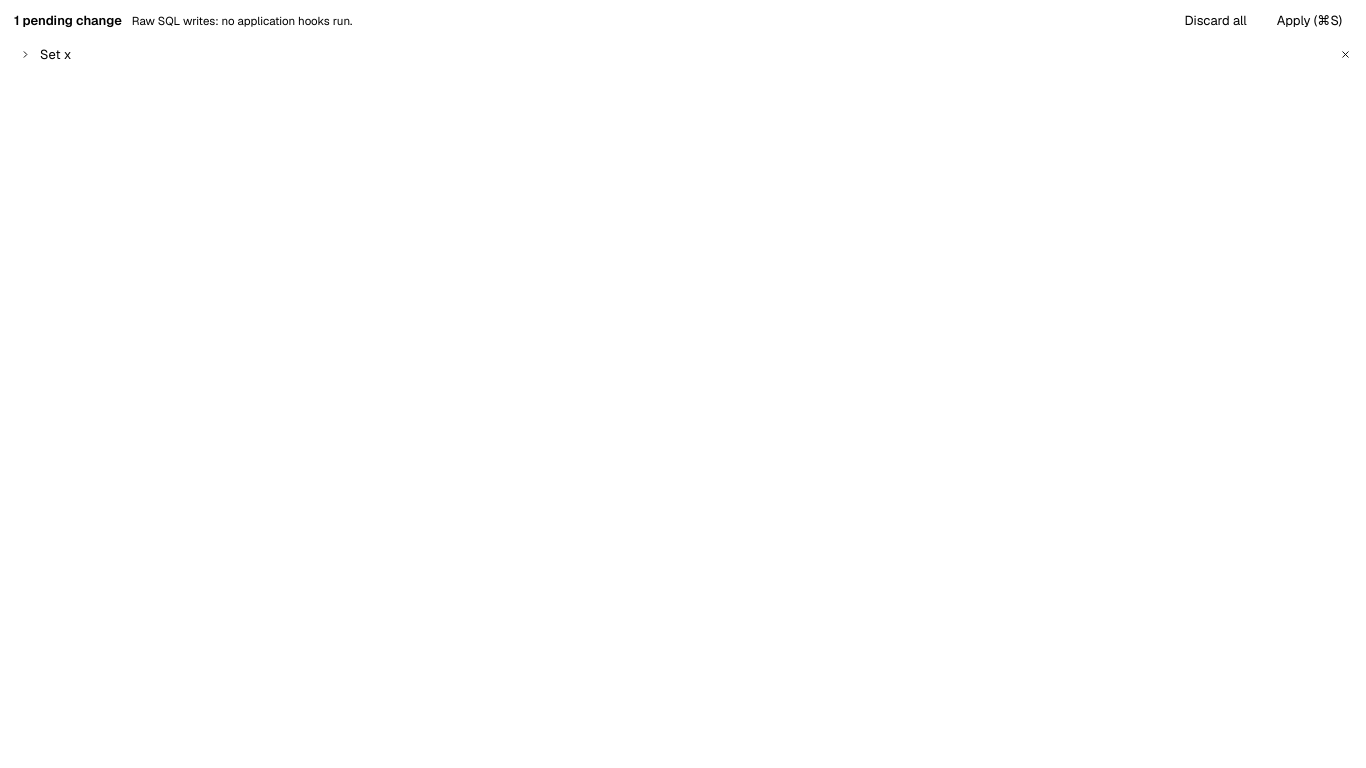
Scenario: PendingTray › applying › offers no Undo when the applied batch cannot be undone
Click the button "Apply (⌘S)": (1309,21) [1267,8,1352,34]
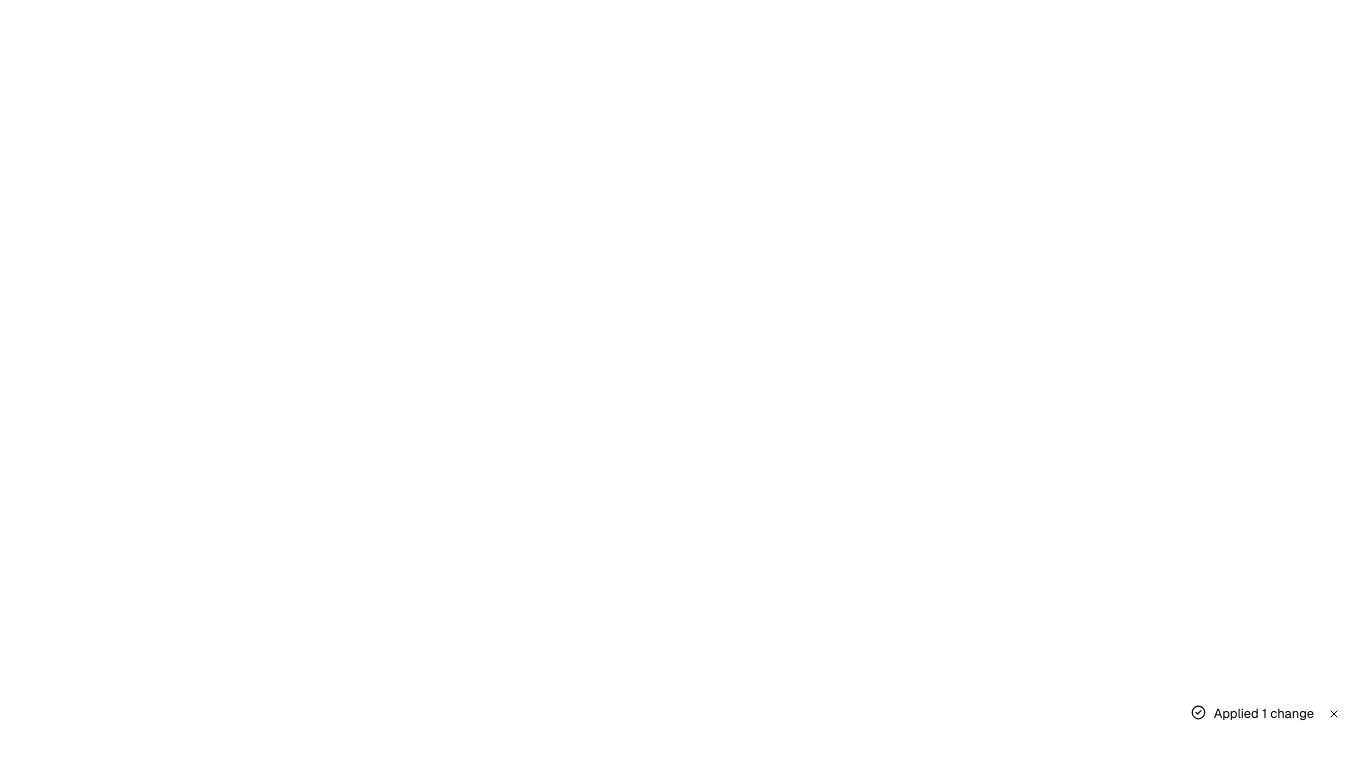
Now the message reads "Applied 1 change", box [1214,705,1314,722]
